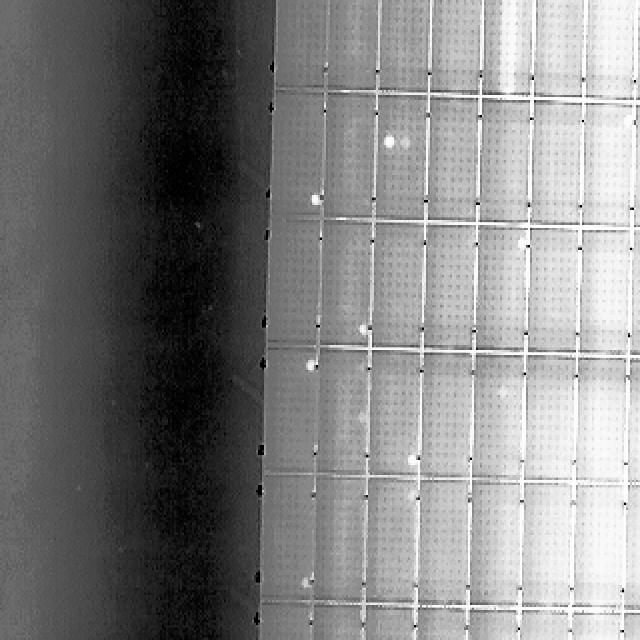Hotspots: (376, 127, 400, 153), (404, 446, 422, 473), (353, 321, 371, 346), (304, 190, 321, 215), (298, 353, 316, 375), (299, 570, 313, 594)
PV-modules: (372, 227, 427, 355), (260, 476, 315, 604), (316, 216, 370, 346), (522, 478, 576, 608), (310, 473, 364, 602), (312, 346, 366, 475), (468, 482, 522, 610), (424, 100, 478, 228), (270, 87, 324, 215), (524, 361, 578, 488), (266, 220, 320, 347), (419, 349, 472, 478), (574, 362, 627, 490), (474, 93, 527, 221), (471, 230, 524, 358), (370, 356, 423, 484), (263, 343, 315, 473), (577, 233, 630, 360), (571, 481, 624, 608), (330, 89, 382, 218), (367, 479, 419, 608), (530, 104, 583, 230), (378, 99, 430, 227), (417, 476, 469, 604), (422, 224, 474, 351), (528, 232, 580, 359), (580, 106, 632, 232), (473, 355, 524, 482), (580, 0, 634, 105), (532, 0, 586, 102), (432, 0, 484, 100), (476, 0, 528, 98), (326, 0, 380, 92), (272, 0, 326, 92), (374, 0, 426, 95), (273, 604, 351, 640), (257, 603, 311, 640), (310, 605, 365, 640), (626, 480, 640, 608), (359, 607, 412, 640), (413, 609, 468, 640), (466, 610, 521, 640), (518, 611, 572, 640), (565, 612, 620, 640), (628, 362, 640, 490), (632, 232, 640, 362), (618, 612, 640, 640), (636, 108, 640, 232)
